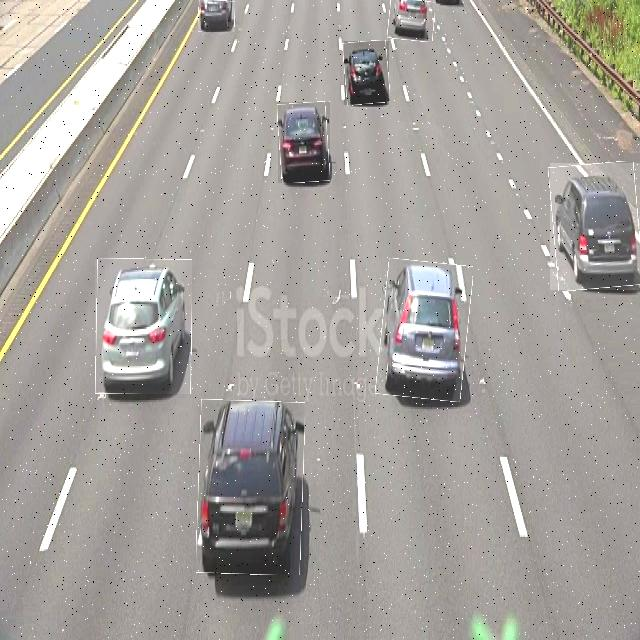Car: (198, 400, 304, 575), (95, 259, 192, 394), (379, 260, 470, 400), (550, 163, 640, 290), (278, 102, 330, 183), (344, 41, 389, 105), (388, 0, 434, 41), (198, 0, 235, 32)
